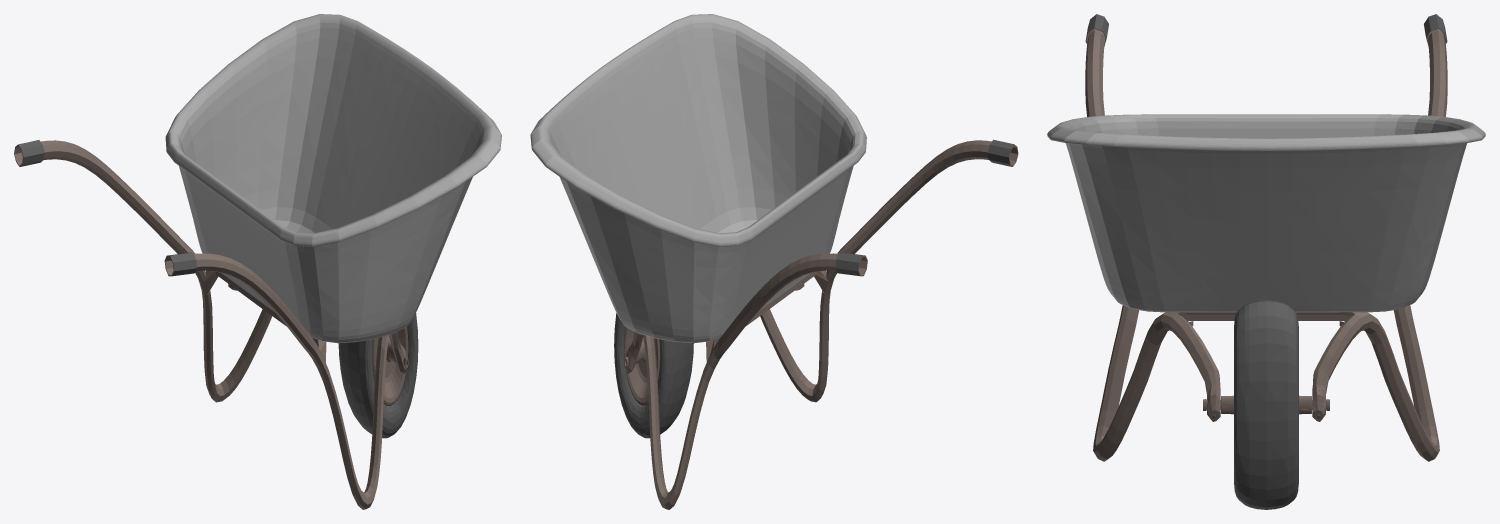
File: sh-bs0-wheelbarrow.glb
3 views of the same model, side by side, from view 1: azimuth 30°, elevation 25°; view 2: azimuth 150°, elevation 25°; view 3: azimuth 270°, elevation 25° (orthographic). The views are drawn at different scales.
Visible parts, largest first — view 1: Barrow_Plane, WheelHub_Circle.000, Handles_Mesh; view 2: Barrow_Plane, WheelHub_Circle.000, Handles_Mesh; view 3: Barrow_Plane, WheelHub_Circle.000, Handles_Mesh.
Part boxes in pixels (x1,y1,x2,y2): Barrow_Plane: [165, 14, 501, 343]; WheelHub_Circle.000: [14, 140, 408, 509]; Handles_Mesh: [18, 140, 418, 438]; Barrow_Plane: [530, 14, 866, 343]; WheelHub_Circle.000: [624, 140, 1018, 509]; Handles_Mesh: [614, 139, 1013, 438]; Barrow_Plane: [1047, 114, 1485, 312]; WheelHub_Circle.000: [1085, 28, 1447, 461]; Handles_Mesh: [1086, 14, 1446, 509].
Size of the model in its own units: 1 by 1 by 1.
